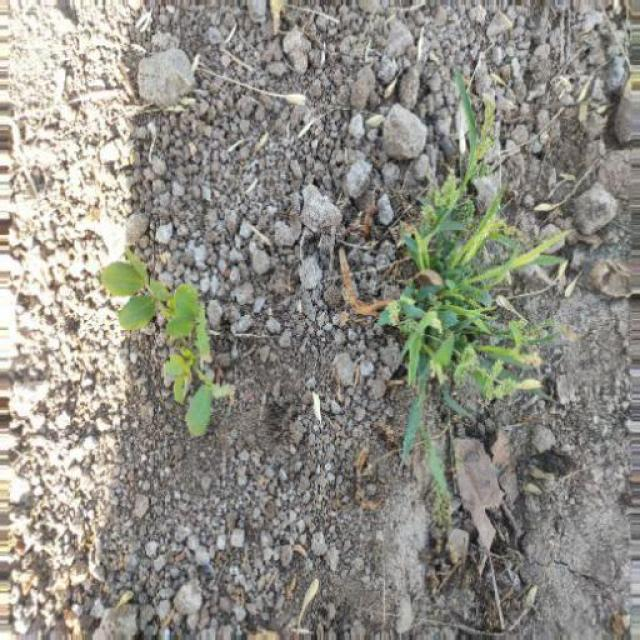weed: (372, 124, 562, 428), (89, 244, 226, 446)
